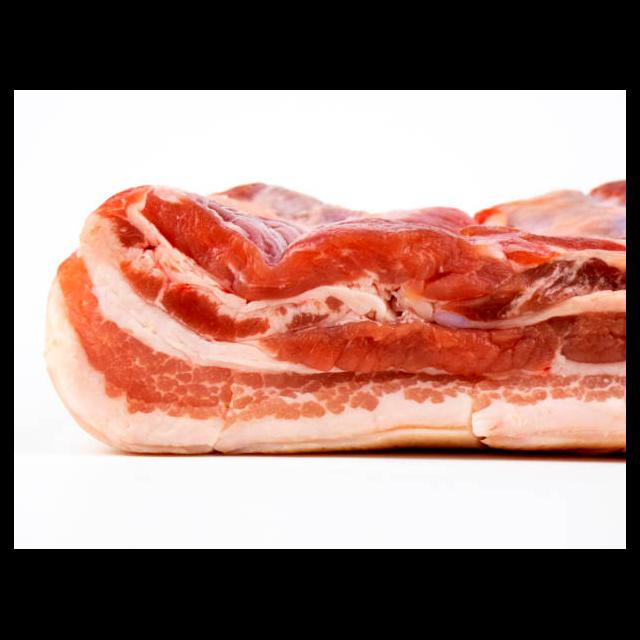pork: (42, 176, 626, 470)
